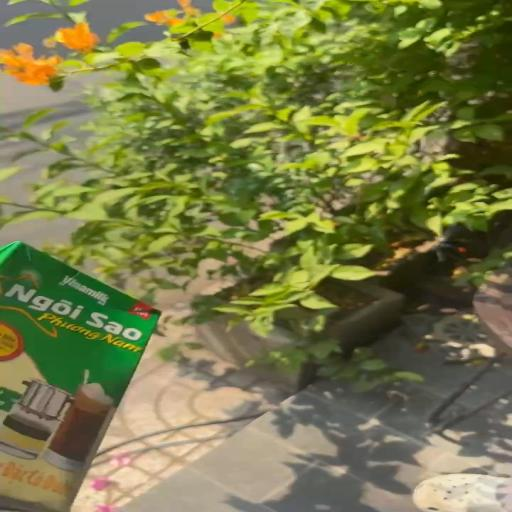ly_giay: (0, 241, 159, 512)
